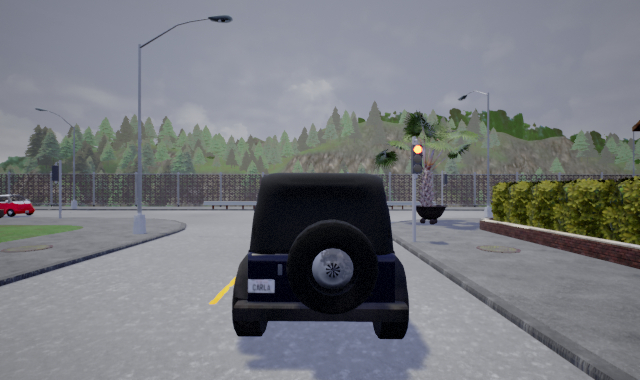traffic_light: (410, 144, 426, 175)
vehicle: (230, 170, 409, 339), (1, 194, 37, 217)
